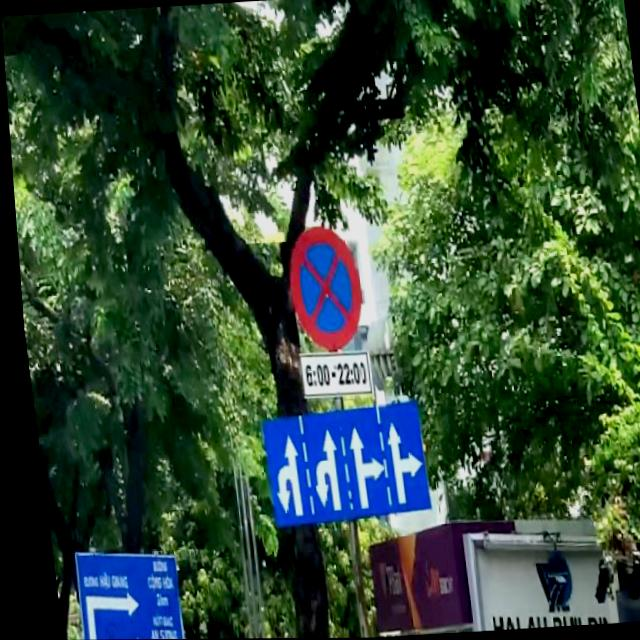Cam dung xe va do xe: (280, 224, 363, 353)
